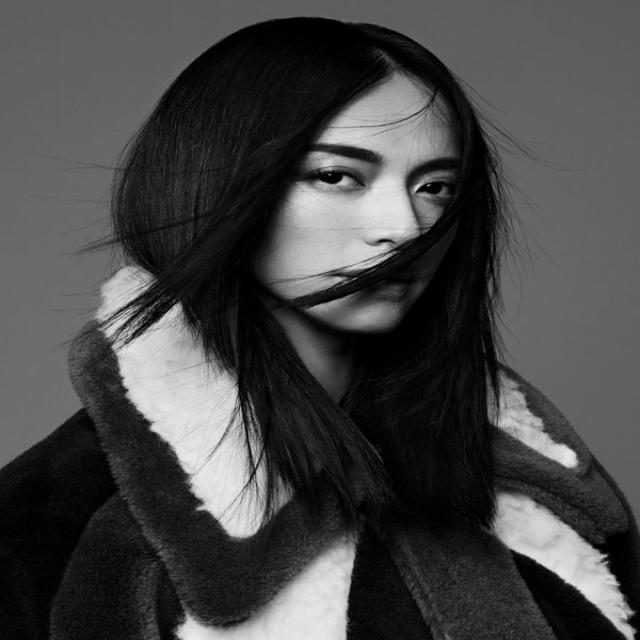nomask: (262, 86, 461, 334)
